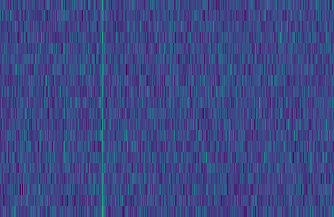signal: (96, 0, 105, 217)
